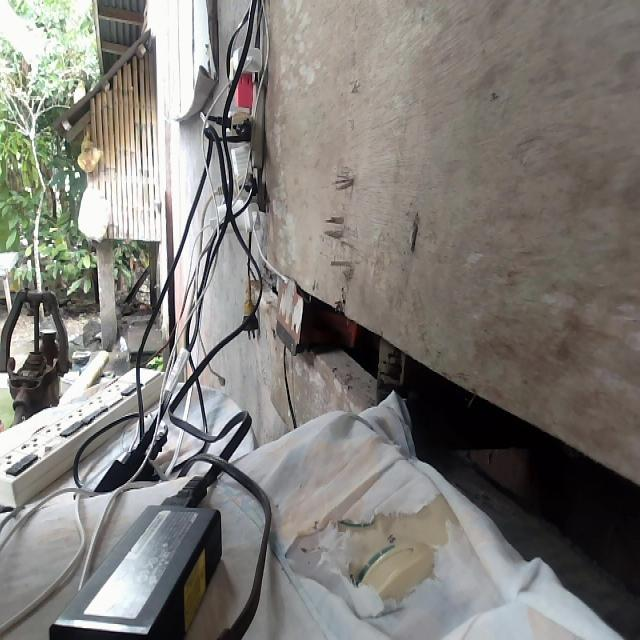-: (197, 44, 270, 233)
